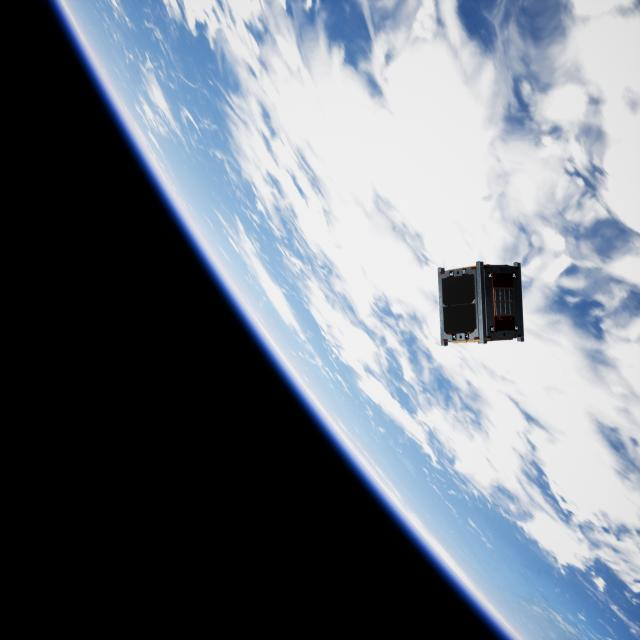satellite: (439, 260, 528, 342)
